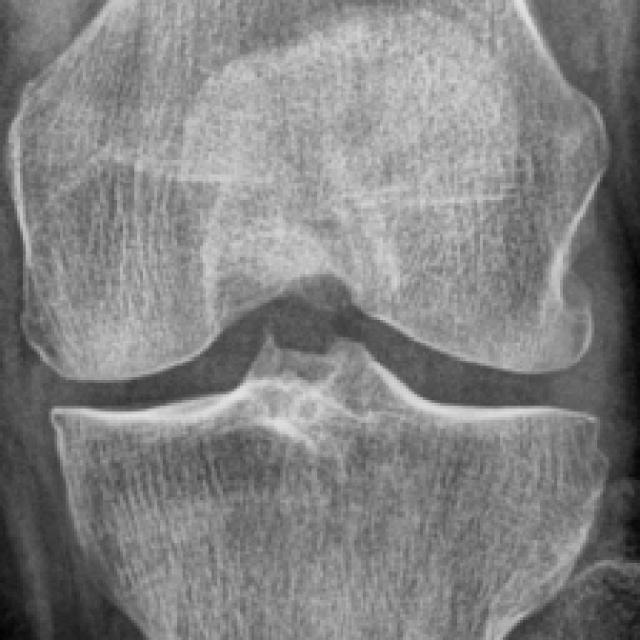femur: (9, 1, 600, 377)
tibia: (54, 337, 600, 637)
